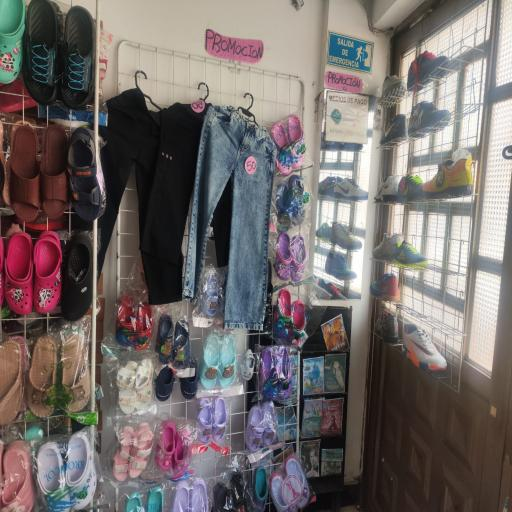flip-flop: (40, 2, 70, 218), (61, 231, 117, 339), (26, 335, 90, 418), (6, 125, 40, 222), (65, 430, 97, 510), (36, 441, 72, 512), (60, 332, 90, 413), (4, 232, 33, 315), (0, 336, 27, 425), (2, 441, 36, 511), (34, 231, 62, 314), (0, 0, 26, 84), (284, 455, 310, 508), (200, 332, 220, 389), (216, 333, 236, 388), (115, 295, 136, 347), (155, 420, 176, 471), (273, 289, 293, 341), (134, 359, 154, 410), (172, 429, 192, 479), (155, 314, 174, 365), (134, 302, 153, 351), (245, 404, 264, 452), (172, 320, 190, 369), (274, 232, 292, 280), (269, 472, 290, 512), (290, 234, 307, 282), (201, 273, 219, 317), (180, 356, 198, 400), (211, 396, 228, 442), (196, 397, 213, 443), (261, 401, 277, 446), (154, 366, 174, 402), (253, 466, 269, 510), (189, 477, 209, 512), (118, 426, 138, 461), (135, 422, 154, 458), (0, 138, 4, 304), (289, 300, 306, 339), (116, 360, 137, 390), (171, 481, 190, 512), (112, 450, 130, 482), (270, 122, 290, 150), (287, 114, 303, 143), (128, 455, 148, 478), (118, 389, 136, 414), (147, 486, 164, 512), (241, 349, 255, 380), (125, 491, 143, 512)
shoe: (422, 156, 474, 198), (402, 324, 446, 371), (407, 51, 449, 94), (408, 101, 451, 137), (393, 240, 428, 269), (372, 233, 404, 263), (330, 221, 362, 250), (324, 252, 357, 280), (378, 75, 406, 107), (370, 273, 400, 302), (380, 114, 407, 146), (333, 177, 368, 201), (374, 312, 398, 343), (315, 277, 347, 300), (397, 174, 423, 202), (374, 175, 400, 202), (318, 176, 336, 197), (315, 222, 331, 243)
